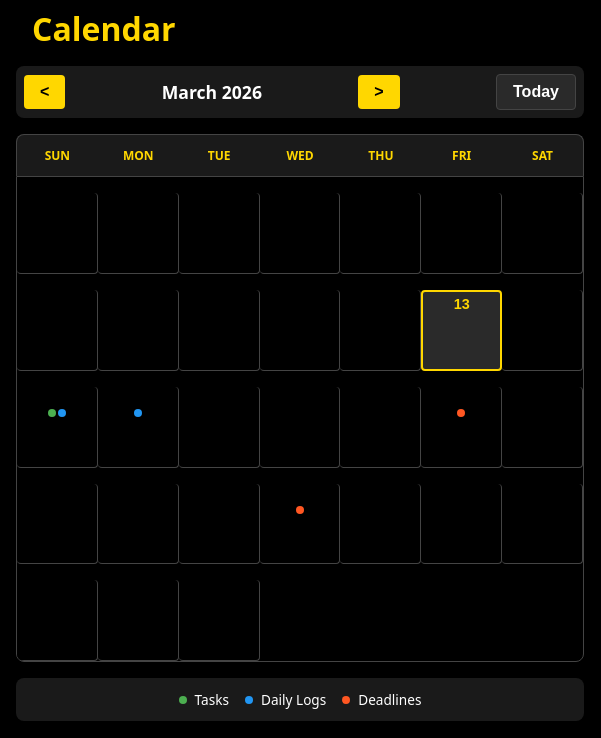
Test case: CalendarView › navigates to next month
What coordinates should you click on to do the following:
click the button named "Next month"
I would click on:
 (379, 92)
Its box is [358,75,400,109].
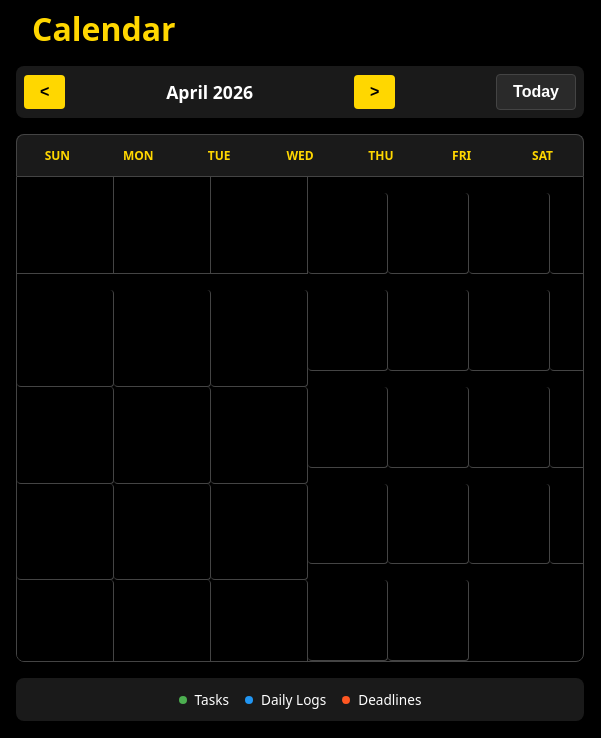
Check: the heading "April 2026" is shown, box [166,80,253,104]
